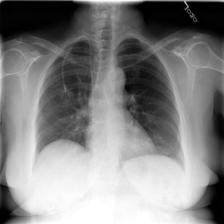normal: (29, 32, 188, 183)
